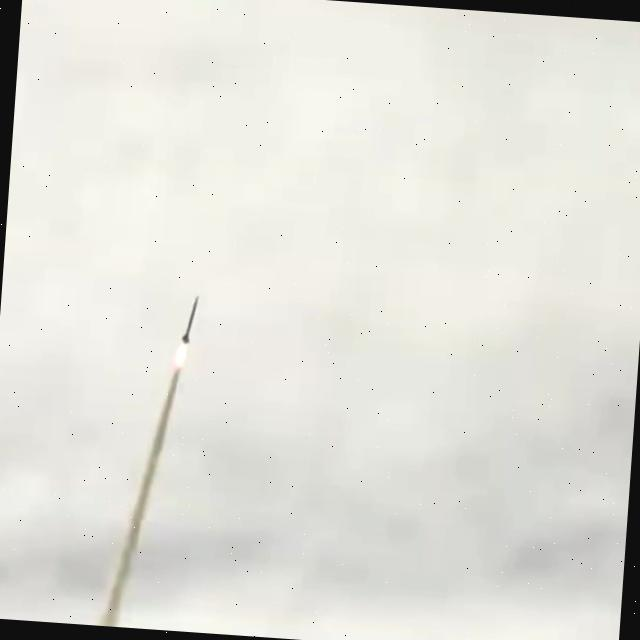smoke_trail_with_rocket: (98, 297, 197, 626)
